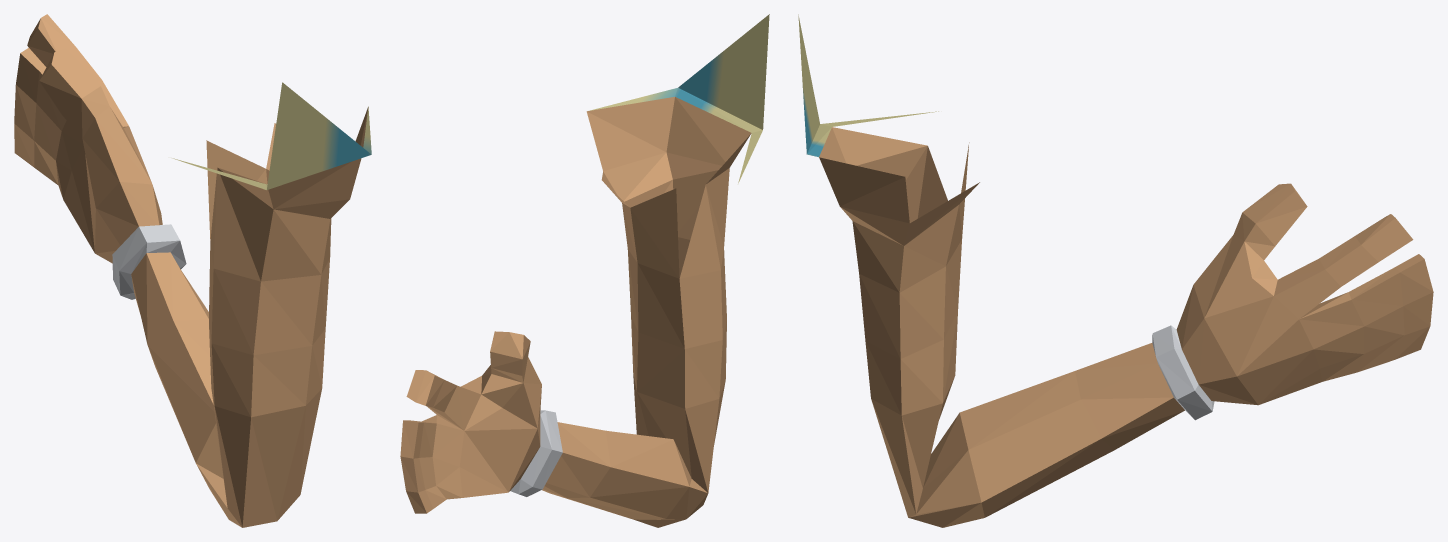
The model's file is Mother_02_ArmR_118_02_B.obj.
3 renders of one model, left to right at view 1: azimuth 30°, elevation 25°; view 2: azimuth 150°, elevation 25°; view 3: azimuth 270°, elevation 25°, orthographic. The views are drawn at different scales.
Visible parts, largest first — view 1: Mother_02_ArmR_118_02_B; view 2: Mother_02_ArmR_118_02_B; view 3: Mother_02_ArmR_118_02_B.
Boxes of the visible parts, x1=… form: Mother_02_ArmR_118_02_B: x1=14, y1=14, x2=371, y2=527; Mother_02_ArmR_118_02_B: x1=400, y1=14, x2=769, y2=527; Mother_02_ArmR_118_02_B: x1=798, y1=14, x2=1433, y2=527.
Size of the model in its own units: 0.1784 by 0.4725 by 0.5564.
Materials: 1 (1 with a texture image).
